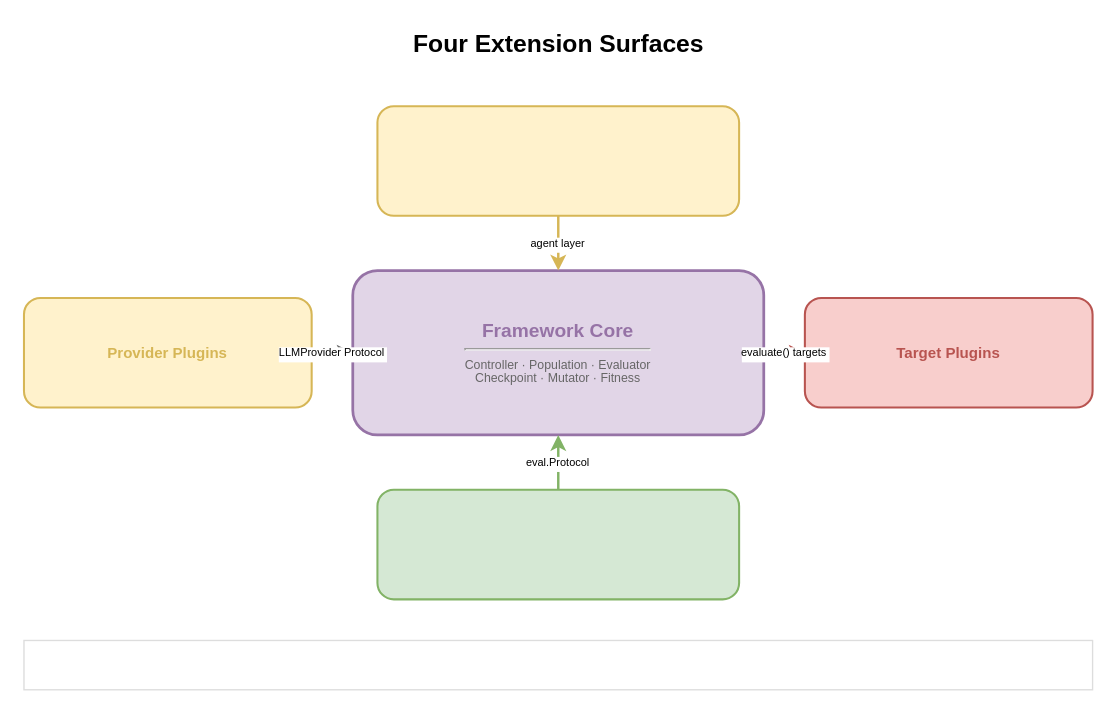
This 1118x714 diagram has some shape labels left out. Here are the shapes that lost their labels. From the top down, the centre of each, then its label:
[558,160]: Skill Plugins
[558,544]: Evaluator Plugins
